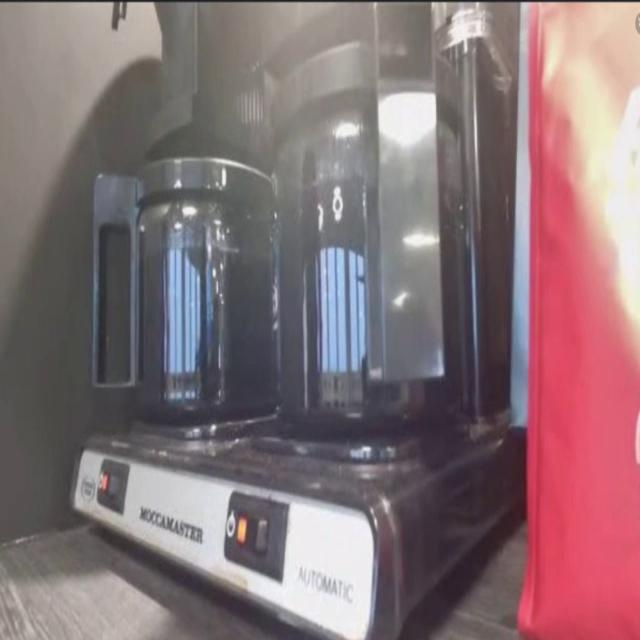coffee: (277, 146, 466, 422), (134, 215, 274, 410)
